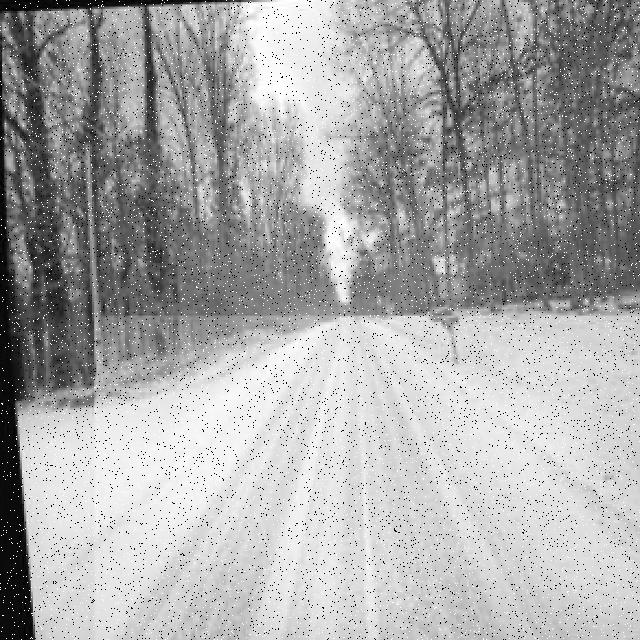ice-road: (105, 317, 640, 640)
